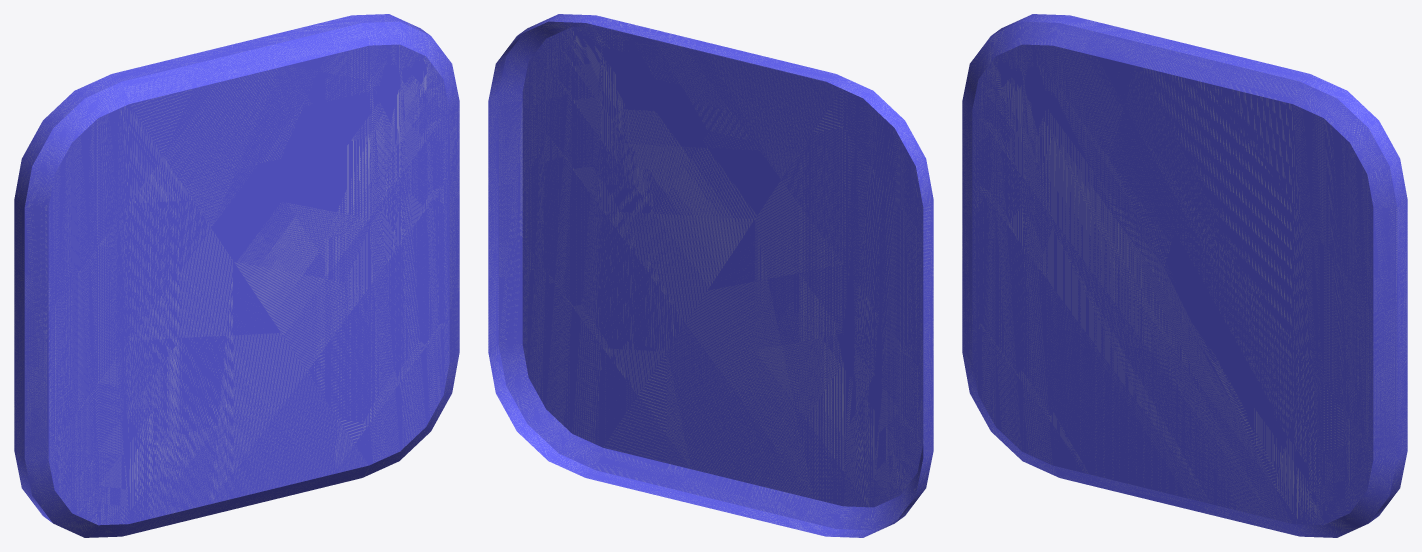
The model's file is original-12.obj.
3 renders of one model, left to right at view 1: azimuth 30°, elevation 25°; view 2: azimuth 150°, elevation 25°; view 3: azimuth 330°, elevation 25°, orthographic.
Parts seen in each view (by area): view 1: #ID20; view 2: #ID20; view 3: #ID20.
Part boxes in pixels (bbox=[...]): #ID20: bbox=[14, 14, 459, 537]; #ID20: bbox=[488, 14, 933, 537]; #ID20: bbox=[962, 14, 1407, 537].
Size of the model in its own units: 0.2424 by 0.2424 by 0.0167.
